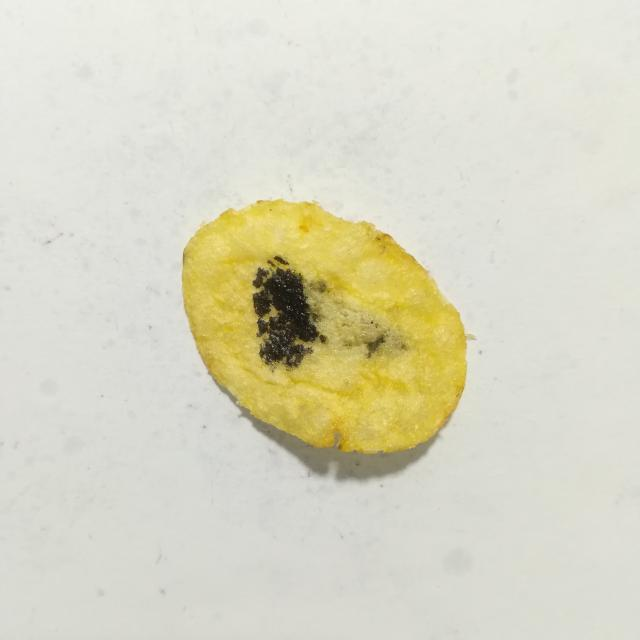chip: (182, 200, 466, 453)
damaged: (253, 267, 320, 368), (274, 255, 289, 265), (266, 260, 275, 268), (319, 334, 326, 343)
semi-damaged: (302, 280, 408, 358)
